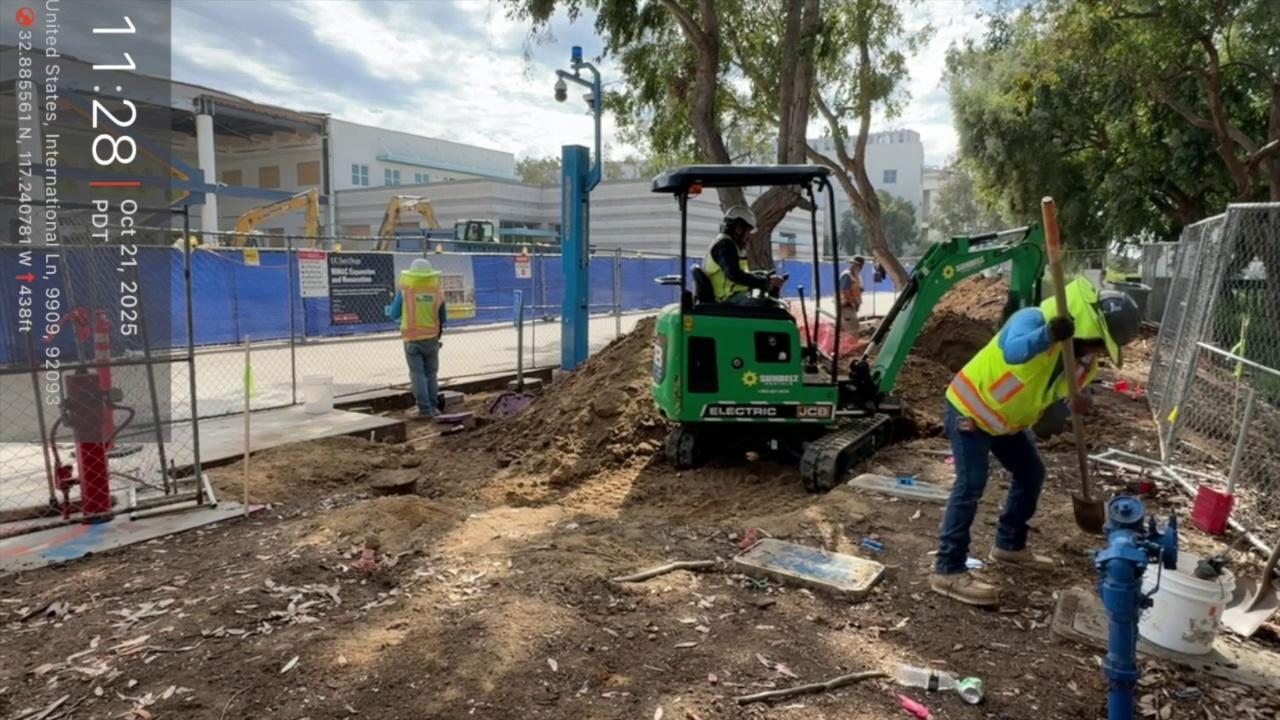Exacavator: (646, 162, 1065, 493)
